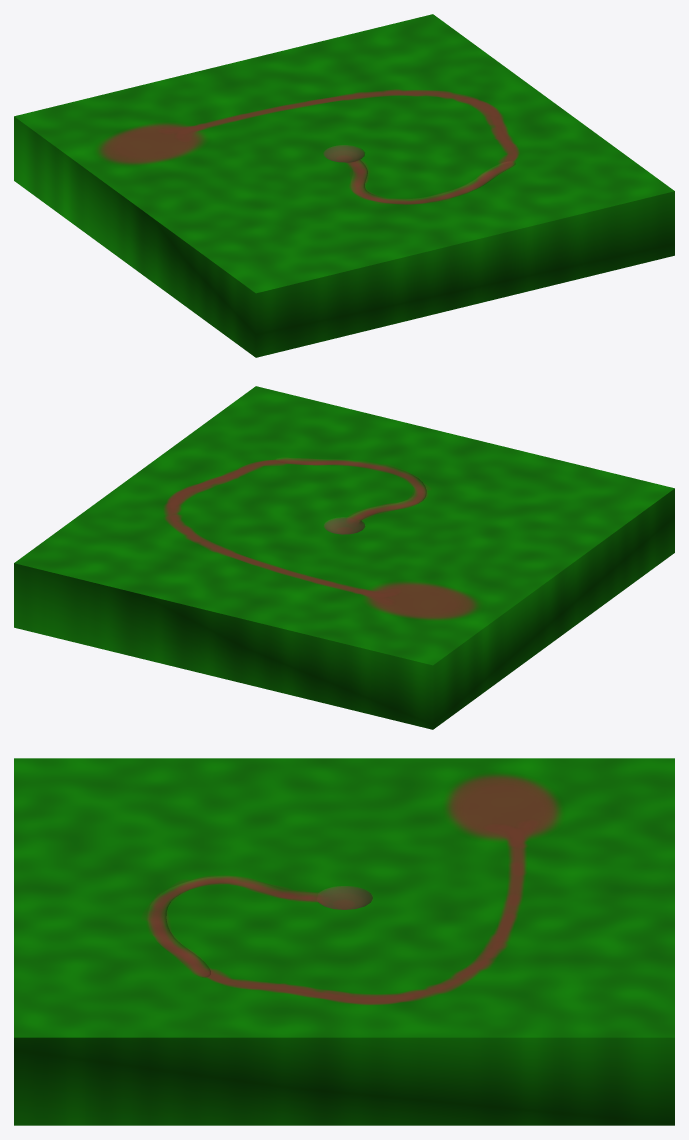
The model's file is World.obj.
The picture shows the model from 3 angles, top to bottom: view 1: azimuth 30°, elevation 25°; view 2: azimuth 150°, elevation 25°; view 3: azimuth 270°, elevation 25°; orthographic projection. The views are drawn at different scales.
Parts seen in each view (by area): view 1: MainWorldMesh_Cube.001; view 2: MainWorldMesh_Cube.001; view 3: MainWorldMesh_Cube.001.
Boxes of the visible parts, <box> form: MainWorldMesh_Cube.001: <box>14,14,674,357</box>; MainWorldMesh_Cube.001: <box>14,386,674,729</box>; MainWorldMesh_Cube.001: <box>14,758,674,1125</box>.
Size of the model in its own units: 200 by 29.4 by 200.
Materials: 1 (1 with a texture image).
